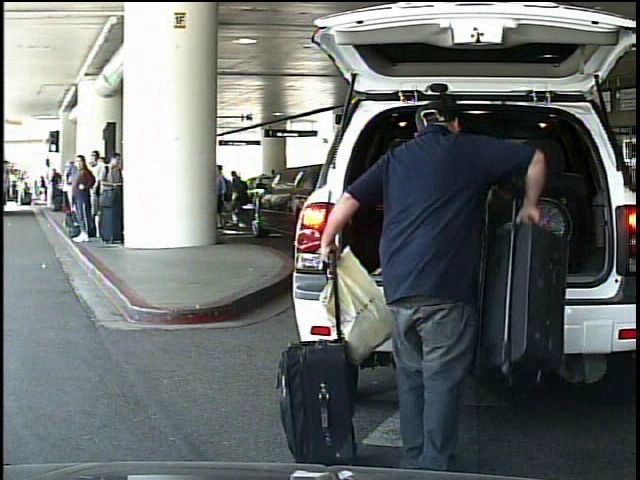person: (320, 95, 541, 470), (230, 166, 253, 233), (215, 163, 235, 229), (37, 173, 49, 202), (18, 176, 28, 207)
